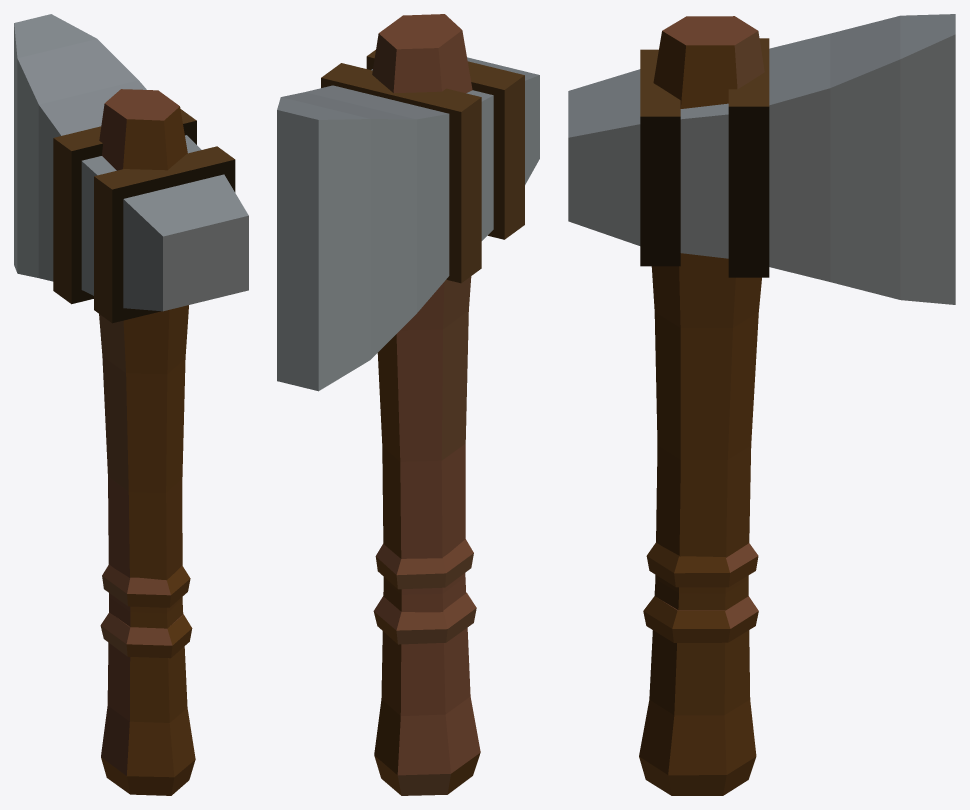
File: axe_b.glb
3 renders of one model, left to right at view 1: azimuth 30°, elevation 25°; view 2: azimuth 150°, elevation 25°; view 3: azimuth 270°, elevation 25°, orthographic. The views are drawn at different scales.
Visible parts, largest first — view 1: handle, head, lashing; view 2: handle, head, lashing; view 3: head, handle, lashing.
Part boxes in pixels (<box>): handle: <box>99,89,195,795</box>; head: <box>14,14,248,311</box>; lashing: <box>53,109,235,323</box>; handle: <box>372,14,480,795</box>; head: <box>277,57,539,391</box>; lashing: <box>321,50,524,283</box>; head: <box>568,14,955,304</box>; handle: <box>639,16,764,795</box>; lashing: <box>640,38,769,277</box>.
Size of the model in its own units: 0.0877 by 0.452 by 0.21.
